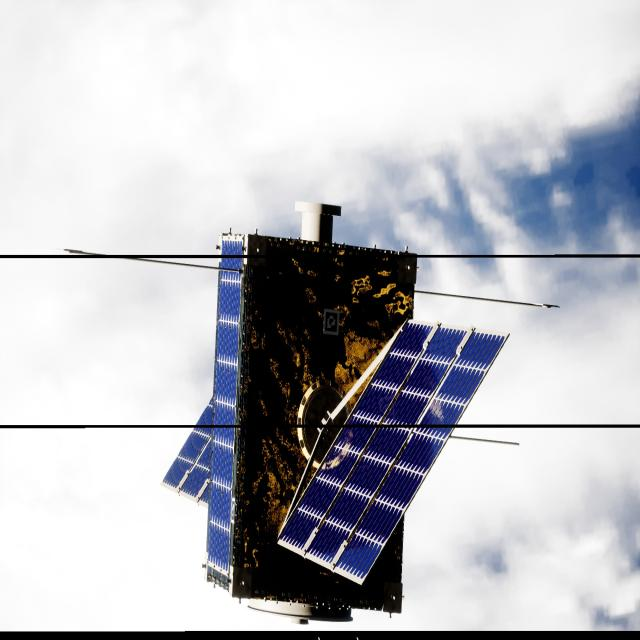medium_debris: (163, 235, 509, 615)
